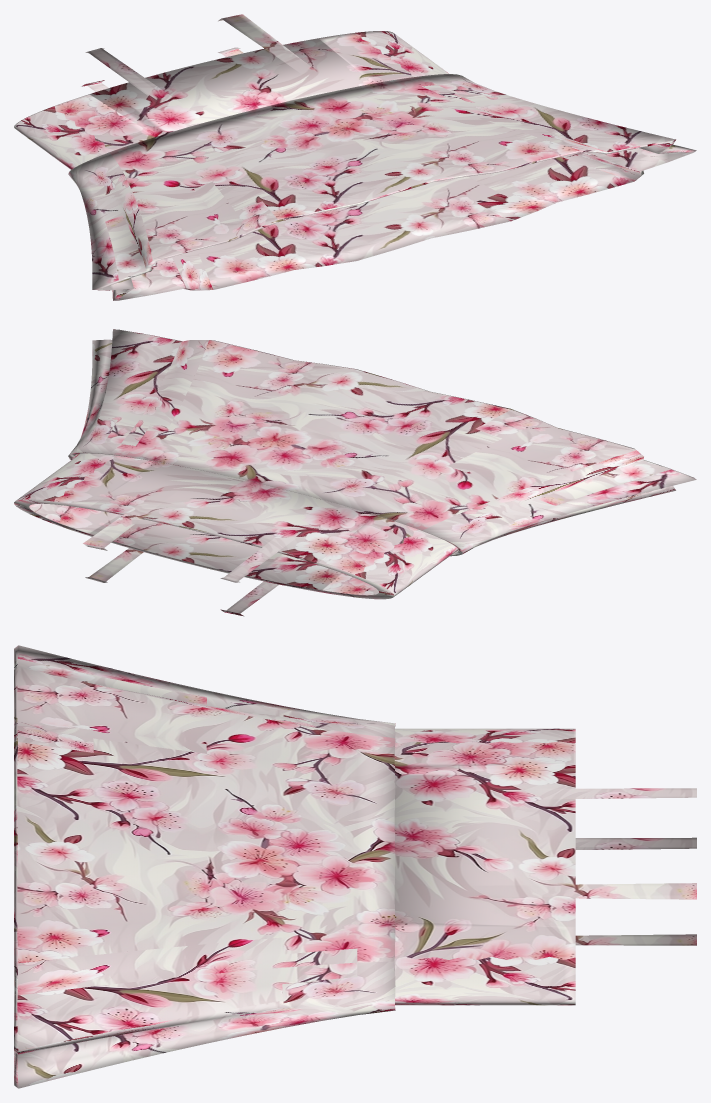
Rendered from sundress3.fbx.
3 views of the same model, one above another, from view 1: azimuth 30°, elevation 25°; view 2: azimuth 150°, elevation 25°; view 3: azimuth 270°, elevation 25° (orthographic). The views are drawn at different scales.
Parts seen in each view (by area): view 1: sundress3; view 2: sundress3; view 3: sundress3.
Boxes of the visible parts, box(x1,y1,x2,y2) form: sundress3: box(14, 14, 696, 300); sundress3: box(14, 329, 696, 616); sundress3: box(14, 645, 696, 1088).
Bounding box in the file's own units: 1.35 × 0.1309 × 0.9.
1 material, 1 textured.
